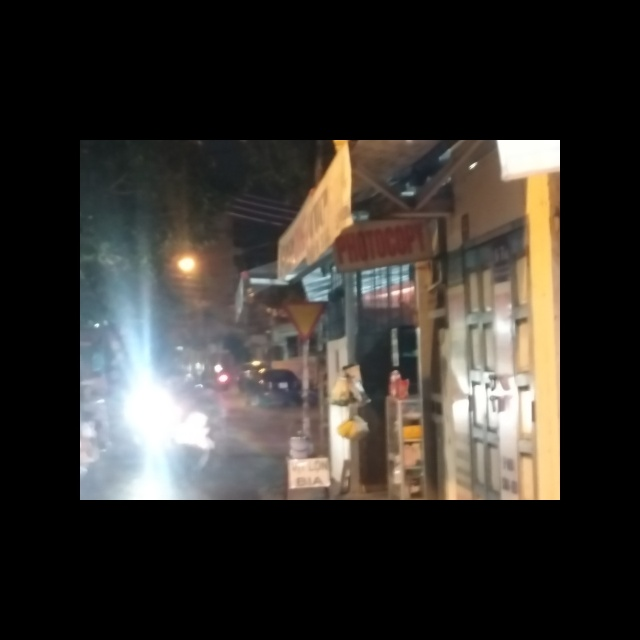Giao nhau với đường ưu tiên: (284, 301, 331, 341)
